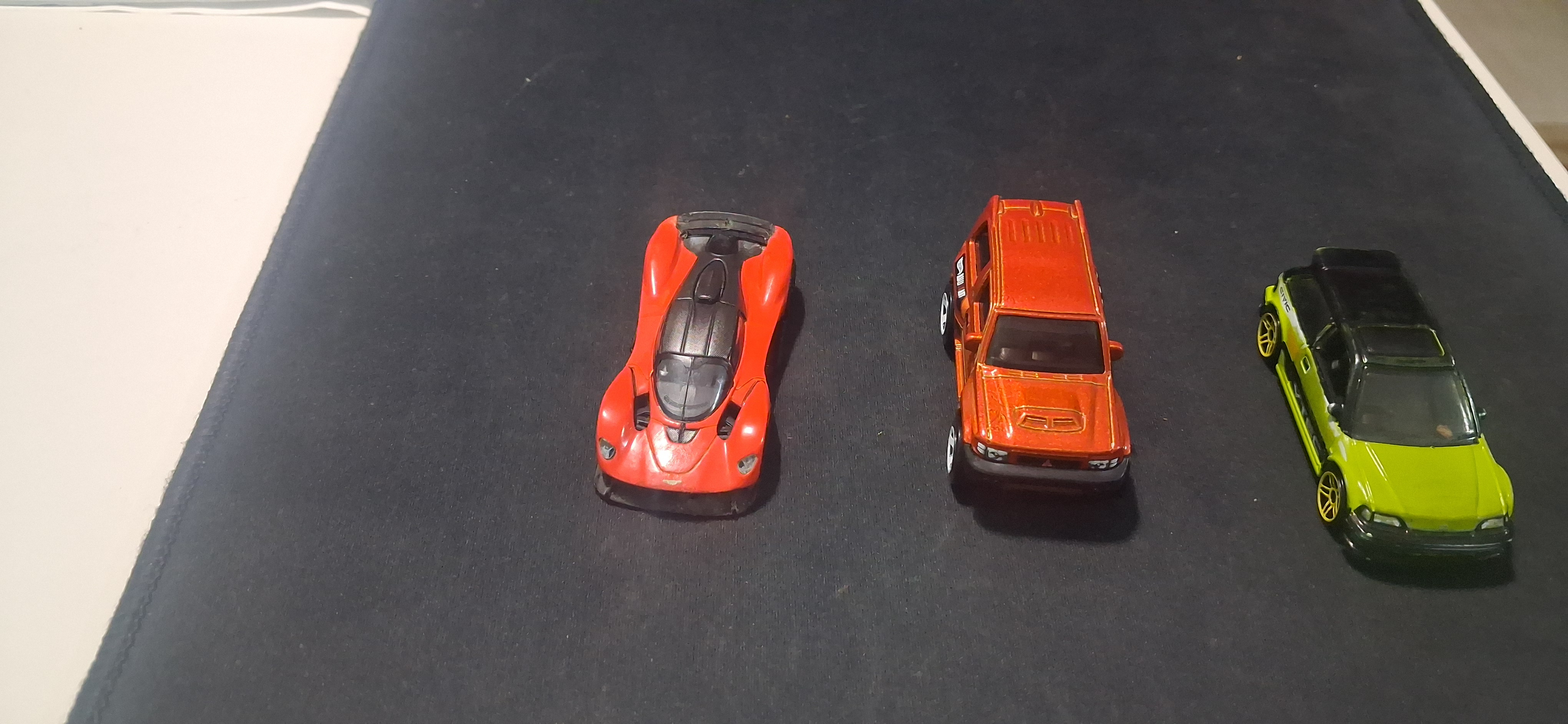Aston_Martin_Valkyrie: (551, 155, 838, 540)
Honda_Civic: (1218, 254, 1533, 613)
Mitsubishi_Pajero_Evolution: (902, 189, 1162, 552)
